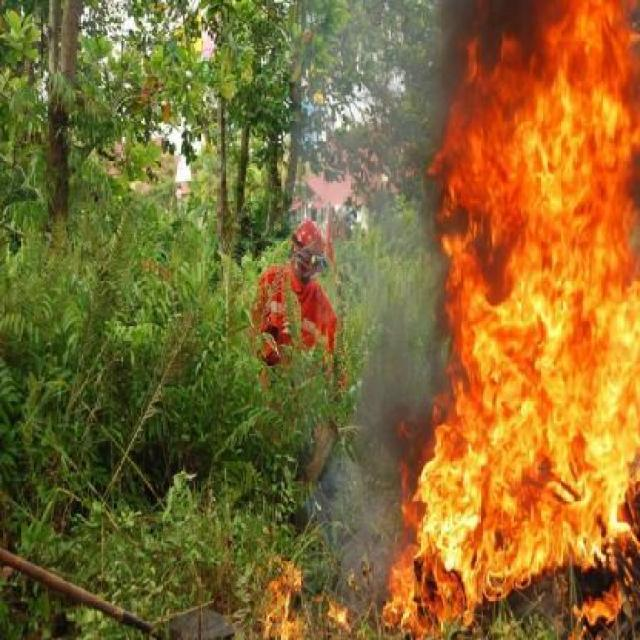Fire: (431, 0, 640, 637), (254, 557, 452, 640)
Smoke: (325, 0, 444, 602)
